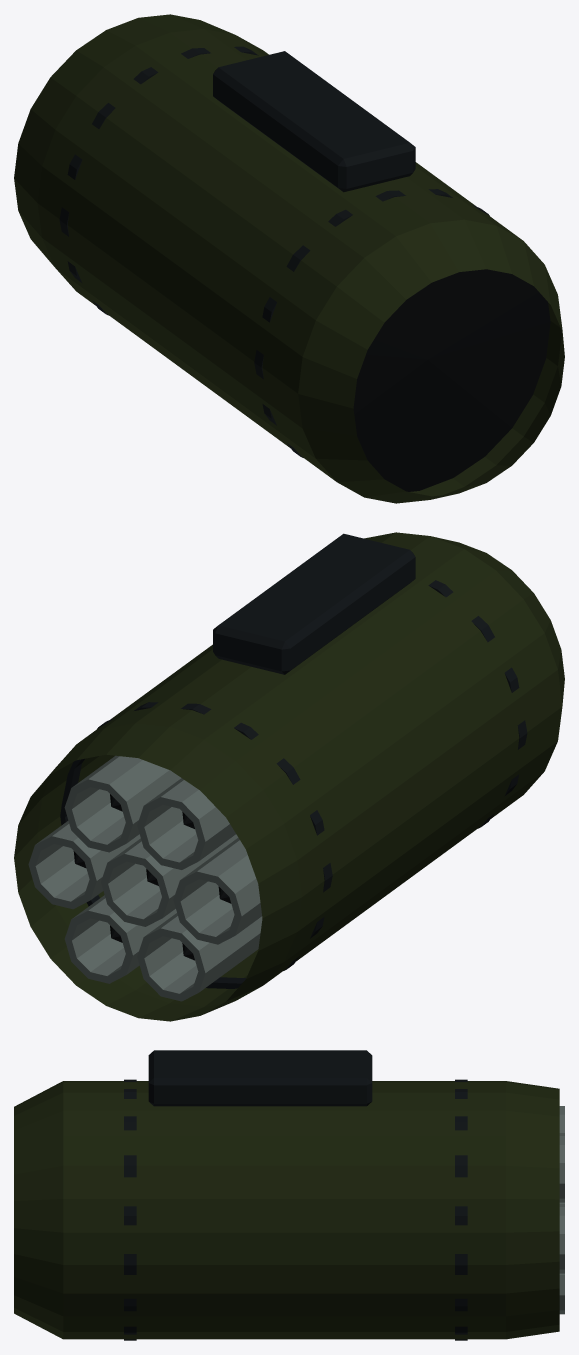
File: Rocket70Seven__Full.obj
3 views of the same model, one above another, from view 1: azimuth 30°, elevation 25°; view 2: azimuth 150°, elevation 25°; view 3: azimuth 270°, elevation 25° (orthographic). The views are drawn at different scales.
Parts seen in each view (by area): view 1: Pod_aerodynamic_outer_shell, Rear_bulkhead, Mount_lug, Identification_band, Identification_band.001; view 2: Pod_aerodynamic_outer_shell, Mount_lug, Tube_03, Tube_05, Tube_06, Tube_04, Tube_01, Tube_02, Tube_07, Identification_band.001, Identification_band; view 3: Pod_aerodynamic_outer_shell, Mount_lug, Identification_band, Identification_band.001, Tube_02, Tube_03.
Part boxes in pixels (x1,y1,x2,y2): Pod_aerodynamic_outer_shell: (14,14,564,503); Rear_bulkhead: (353,269,550,491); Mount_lug: (213,51,415,192); Identification_band: (254,189,489,457); Identification_band.001: (59,46,258,315); Pod_aerodynamic_outer_shell: (14,532,564,1021); Mount_lug: (213,533,415,674); Tube_03: (64,755,180,852); Tube_05: (173,837,261,944); Tube_06: (137,913,262,1001); Tube_04: (137,778,235,869); Tube_01: (101,834,238,926); Tube_02: (28,821,140,909); Tube_07: (64,895,176,983); Identification_band.001: (60,702,332,988); Identification_band: (428,580,527,828); Pod_aerodynamic_outer_shell: (14,1081,559,1339); Mount_lug: (148,1050,372,1106); Identification_band: (124,1079,136,1340); Identification_band.001: (455,1079,467,1340); Tube_02: (559,1207,564,1273); Tube_03: (559,1136,564,1202).
Size of the model in its own units: 0.5835 by 0.6517 by 1.23.
